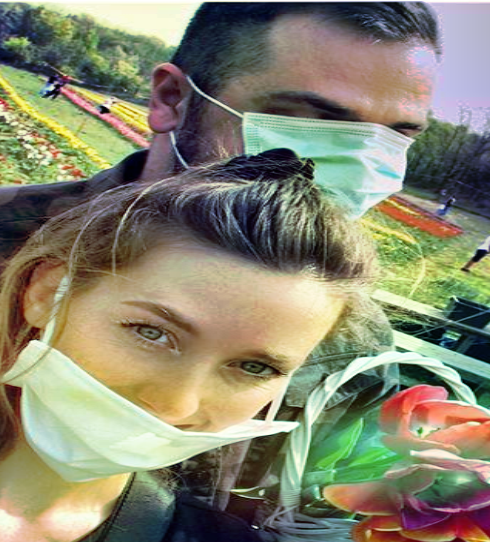mask_weared_incorrect: (9, 190, 348, 482), (147, 2, 451, 224)
